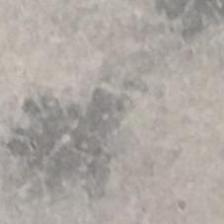Non_Crack: (28, 37, 198, 200)
